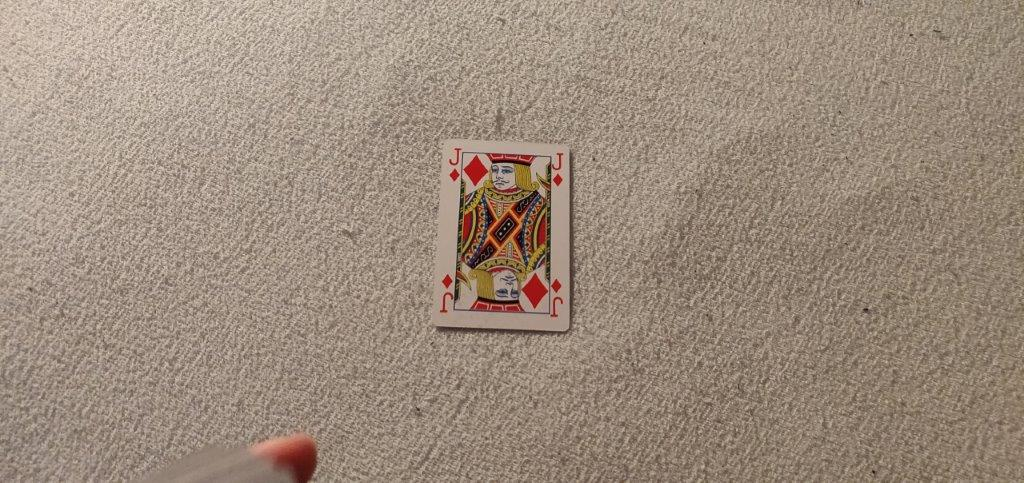JD: (447, 143, 464, 185), (549, 150, 567, 188)
